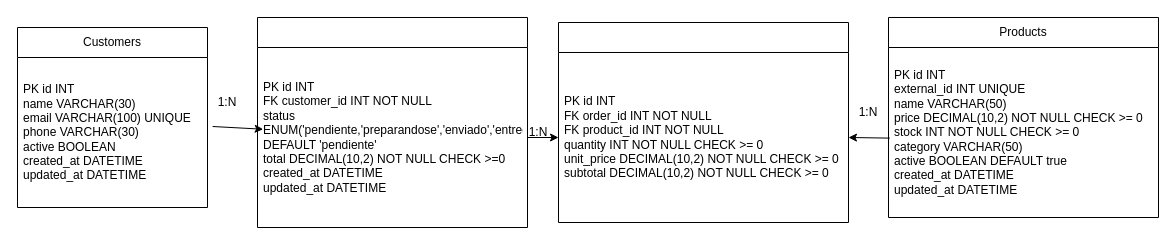
The diagram is 1176 pixels wide and 245 high, and some of its shapes have lost their labels. Here are the shapes that lost their labels. From the top down, the box of each, then its label:
(256, 16, 528, 228): Orders
(558, 22, 848, 222): Order_Items
